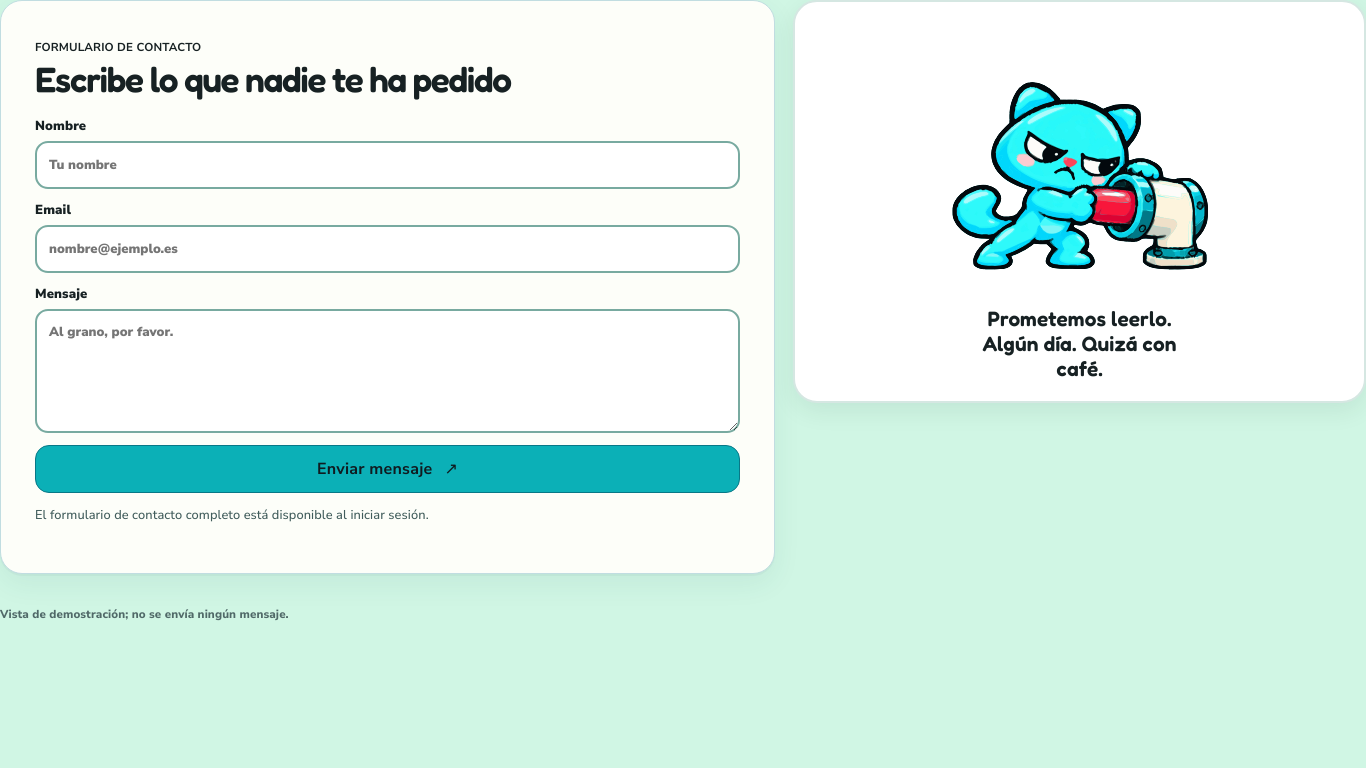
Test case: Contact › opens the demonstration message in a modal dialog
This screenshot has width=1366, height=768.
Click the field labelled "Nombre": coordinates (388, 165) [35,141,740,189]
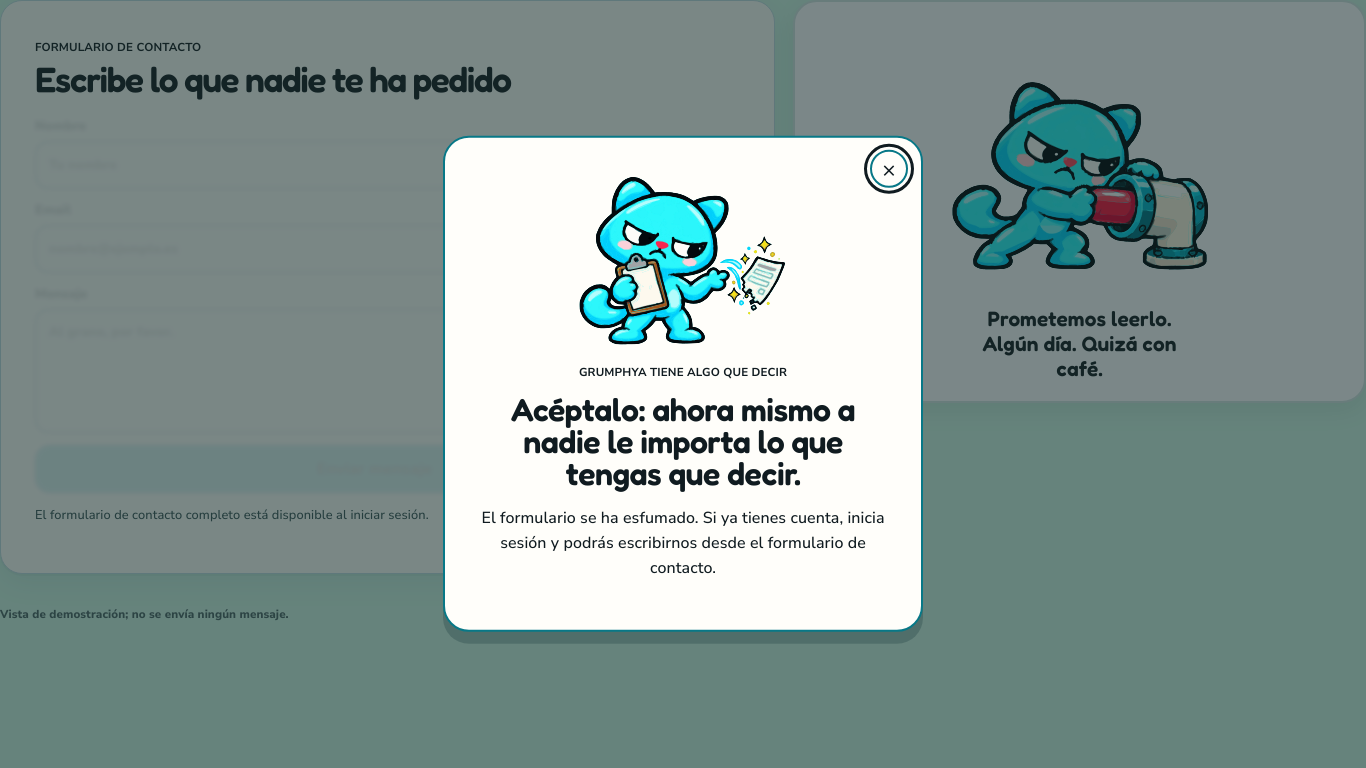
Check: the text "formulario de contacto completo está disponible al iniciar sesión" is shown, box [35,506,429,524]
Check: the picture named "grumphya señala un formulario que se desvanece" is shown, box [573,172,793,348]
Check: the dialog named "a nadie le importa lo que tengas que decir" shows "si ya tienes cuenta, inicia sesión y podrás escribirnos desde el formulario de contacto", box [482,507,885,578]
